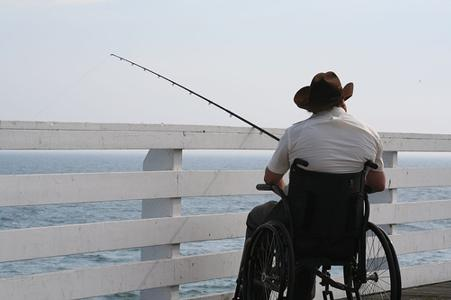person: (235, 73, 387, 300)
